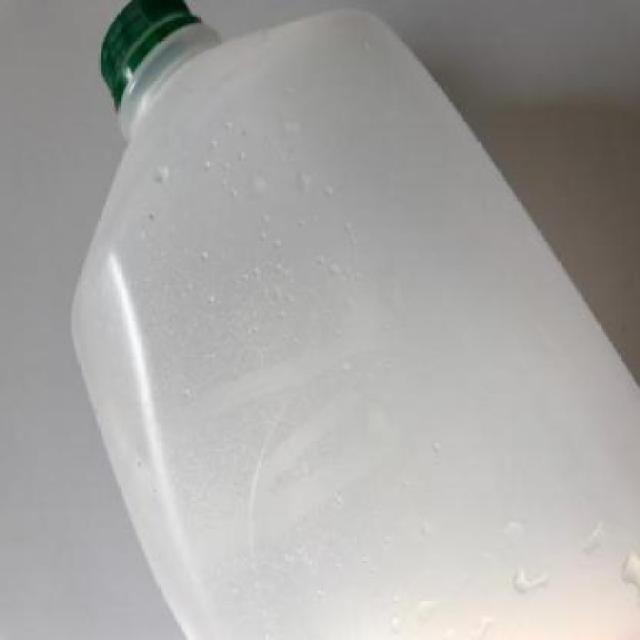PLASTIC: (68, 1, 637, 638), (98, 2, 199, 112)
